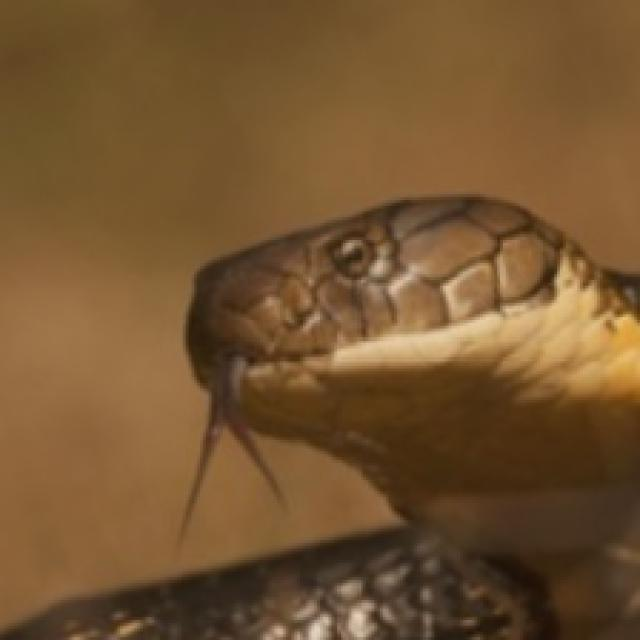king cobra: (186, 197, 637, 637)
